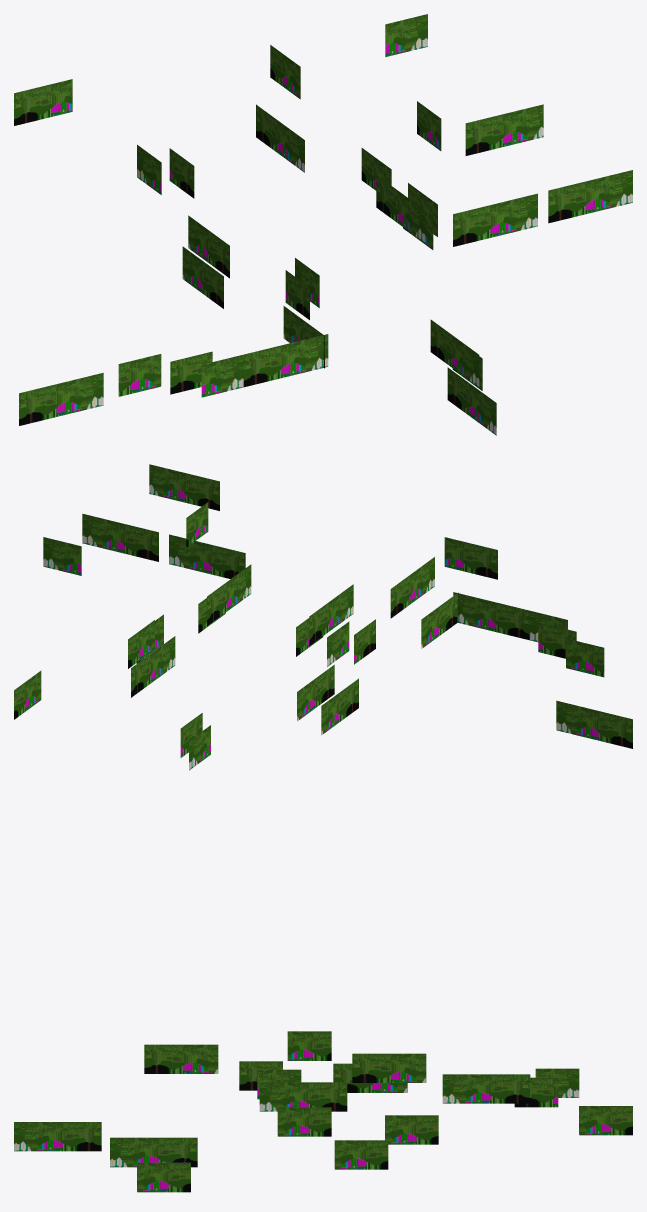
Rendered from Sky_Islands_Lians.fbx.
3 renders of one model, top to bottom at view 1: azimuth 30°, elevation 25°; view 2: azimuth 150°, elevation 25°; view 3: azimuth 270°, elevation 25°, orthographic. The views are drawn at different scales.
Parts seen in each view (by area): view 1: lians_4, lians_4 (2), lians_4 (15), lians_4 (5), lians_2, lians_3, lians_4 (13), lians_4 (3), lians_4 (12), lians (2), lians_4 (16), lians_4 (6) (+12 smaller); view 2: lians_4, lians_4 (15), lians_4 (5), lians_4 (2), lians_2, lians_3, lians_4 (3), lians_4 (13), lians (2), lians_4 (12), lians_4 (16), lians_4 (20) (+13 smaller); view 3: lians (2), lians_4 (13), lians_4 (3), lians_4 (12), lians_4 (8), lians_4 (17), lians_4 (14), lians_4 (4), lians_4 (10), lians_4 (11), lians_4 (9), lians_1 (+5 smaller).
Part boxes in pixels (x1,y1,x2,y2): lians_4: (548,170,632,223); lians_4 (2): (453,193,537,246); lians_4 (15): (19,372,103,425); lians_4 (5): (243,334,328,387); lians_2: (465,104,543,155); lians_3: (14,79,72,125); lians_4 (13): (447,367,496,435); lians_4 (3): (376,175,425,242); lians_4 (12): (430,319,479,387); lians (2): (256,104,304,172); lians_4 (16): (118,354,161,396); lians_4 (6): (201,354,243,397); lians_4: (82,513,158,561); lians_4 (15): (556,700,632,748); lians_4 (5): (453,592,530,640); lians_4 (2): (169,534,245,578); lians_2: (149,464,219,510); lians_3: (444,537,497,579); lians_4 (3): (207,564,251,625); lians_4 (13): (390,557,434,618); lians (2): (131,636,175,697); lians_4 (12): (309,584,353,645); lians_4 (16): (566,638,604,677); lians_4 (20): (43,537,81,575); lians (2): (442,1074,530,1103); lians_4 (13): (14,1122,101,1151); lians_4 (3): (259,1082,347,1111); lians_4 (12): (110,1137,197,1167); lians_4 (8): (144,1044,218,1073); lians_4 (17): (352,1053,426,1082); lians_4 (14): (137,1162,190,1192); lians_4 (4): (277,1107,331,1136); lians_4 (10): (334,1140,388,1169); lians_4 (11): (579,1106,632,1135); lians_4 (9): (385,1115,438,1144); lians_1: (287,1031,331,1060).
Size of the model in its own units: 83.95 by 36.46 by 82.23.
1 material, 1 textured.
